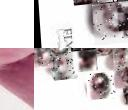ironball: (90, 3, 127, 47), (84, 73, 113, 101), (50, 52, 76, 80), (69, 48, 96, 73), (71, 50, 95, 73), (110, 48, 127, 73), (34, 48, 51, 70), (116, 8, 127, 33), (72, 0, 116, 6), (45, 48, 68, 55), (123, 87, 127, 108)
